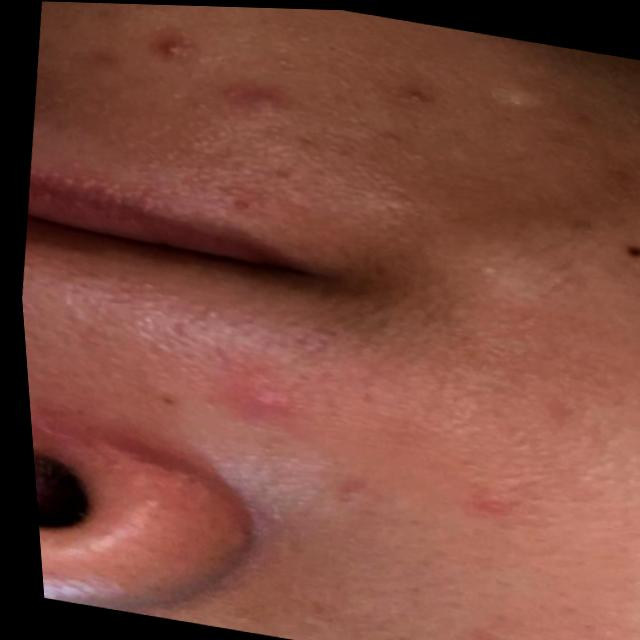papule: (194, 35, 295, 134), (223, 364, 325, 429)
pustule: (152, 29, 199, 72)
